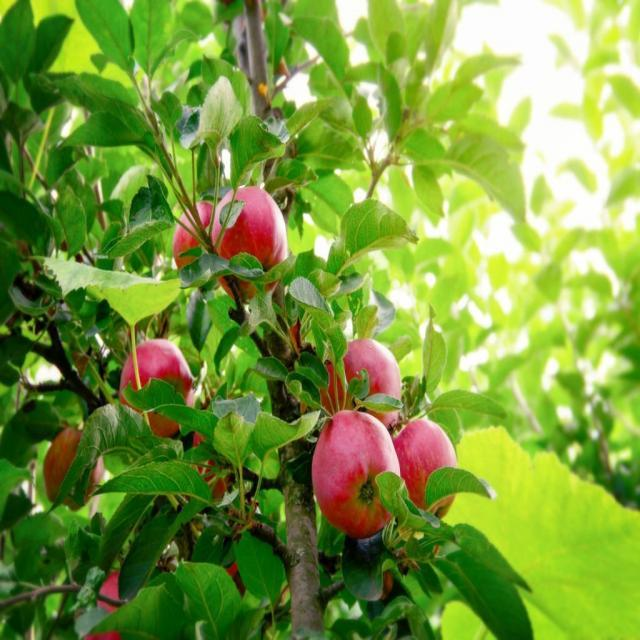Red Apple: (322, 413, 403, 526), (215, 195, 290, 294), (128, 345, 198, 434), (327, 349, 406, 424), (394, 422, 459, 512), (52, 430, 102, 498), (176, 203, 219, 274), (96, 579, 129, 624), (201, 457, 224, 492), (89, 630, 121, 640)
